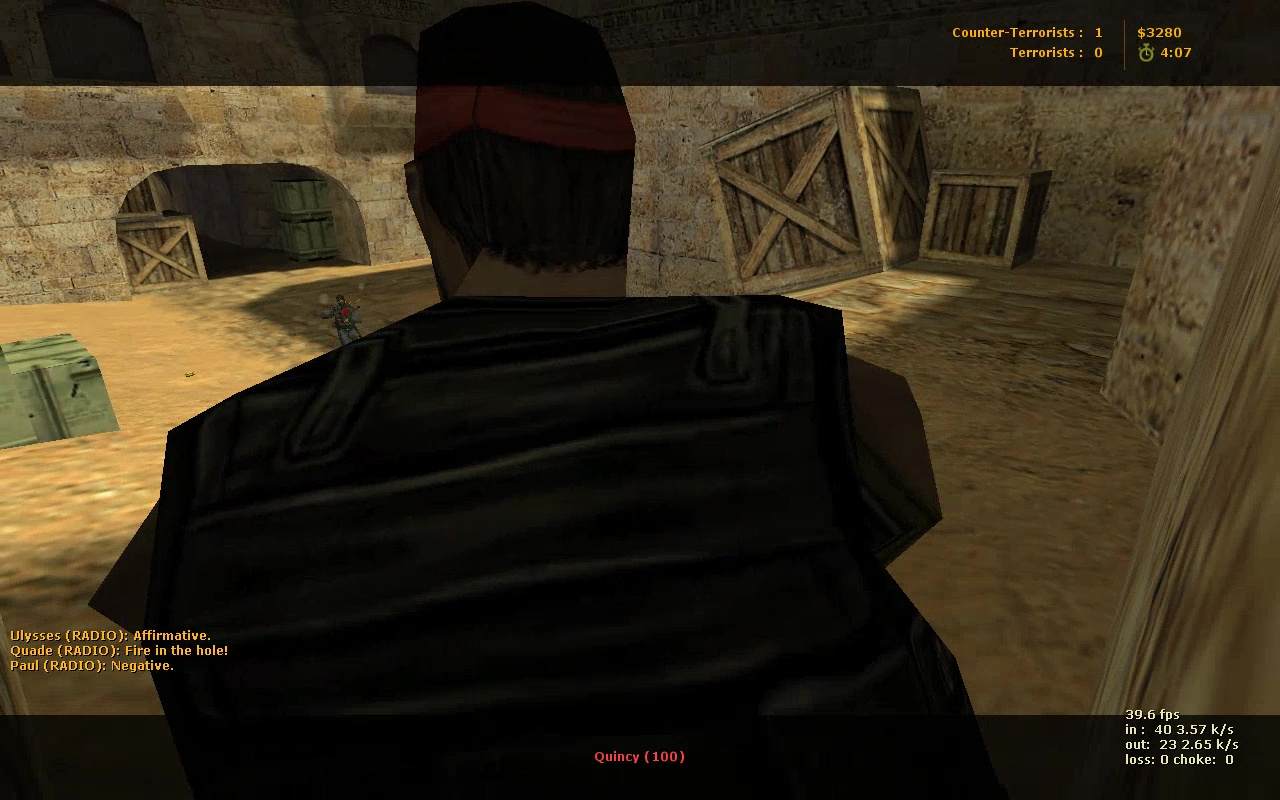ct: (328, 299, 363, 342)
